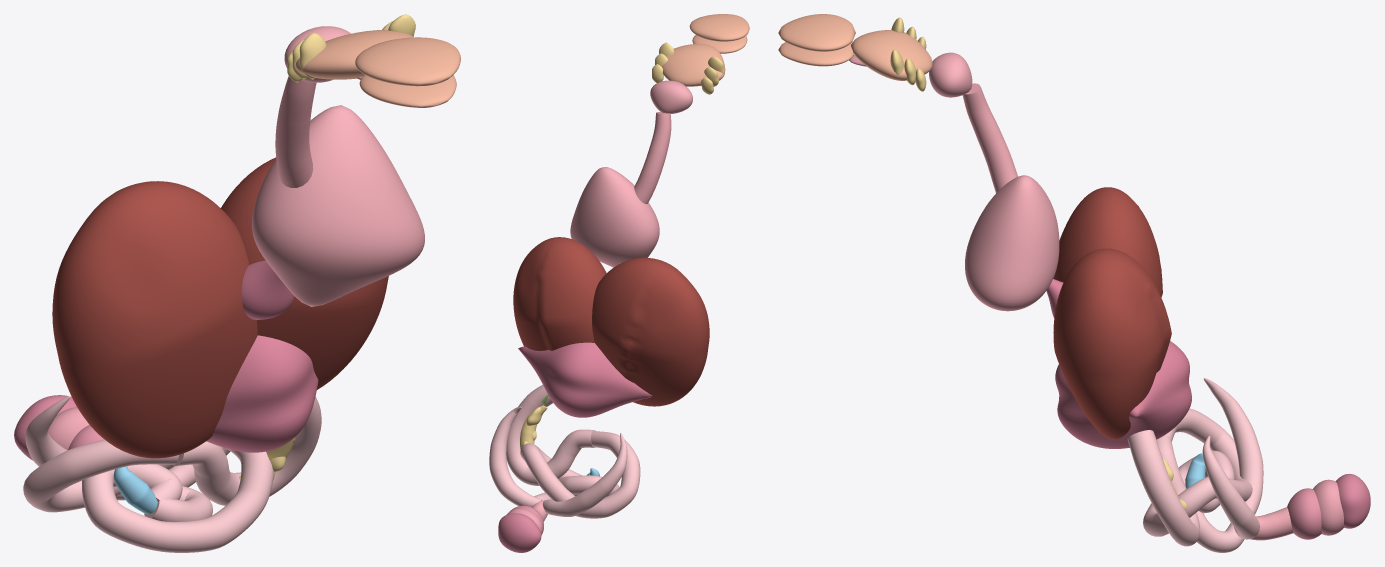
The model's file is digestive_system.glb.
3 views of the same model, side by side, from view 1: azimuth 30°, elevation 25°; view 2: azimuth 150°, elevation 25°; view 3: azimuth 270°, elevation 25° (orthographic). The views are drawn at different scales.
Parts seen in each view (by area): view 1: liver, crop, jejunum, gizzard, beak, duodenum, esophagus, oral_cavity, cloaca, proventriculus, ceca, ileum (+3 smaller); view 2: liver, crop, gizzard, jejunum, ceca, duodenum, beak, oral_cavity, cloaca, esophagus, pharynx, salivary_glands (+1 smaller); view 3: liver, crop, gizzard, ceca, duodenum, cloaca, jejunum, beak, oral_cavity, esophagus, pharynx, ileum (+2 smaller).
Boxes of the visible parts, x1,y1,x2,y2 form: liver: [52, 157, 388, 458]; crop: [252, 105, 424, 306]; jejunum: [23, 439, 273, 552]; gizzard: [206, 335, 318, 452]; beak: [355, 37, 460, 107]; duodenum: [171, 396, 321, 505]; esophagus: [275, 76, 316, 187]; oral_cavity: [295, 30, 413, 79]; cloaca: [14, 395, 104, 460]; proventriculus: [241, 260, 294, 319]; ceca: [25, 396, 230, 500]; ileum: [144, 486, 212, 521]; liver: [513, 237, 709, 406]; crop: [570, 167, 659, 267]; gizzard: [518, 342, 652, 417]; jejunum: [520, 431, 640, 518]; ceca: [489, 406, 627, 516]; duodenum: [506, 385, 595, 485]; beak: [689, 14, 749, 53]; oral_cavity: [661, 44, 725, 86]; cloaca: [498, 505, 543, 552]; esophagus: [634, 112, 671, 203]; pharynx: [650, 80, 692, 113]; salivary_glands: [652, 42, 724, 94]; liver: [1053, 187, 1171, 439]; crop: [965, 175, 1059, 311]; gizzard: [1055, 341, 1191, 448]; ceca: [1202, 378, 1263, 539]; duodenum: [1127, 430, 1199, 546]; cloaca: [1287, 473, 1370, 539]; jejunum: [1143, 408, 1252, 536]; beak: [778, 14, 855, 66]; oral_cavity: [851, 30, 932, 80]; esophagus: [962, 83, 1017, 192]; pharynx: [929, 52, 972, 97]; ileum: [1196, 511, 1244, 552].
Bounding box in the file's own units: 1.09 × 2.16 × 2.29.
